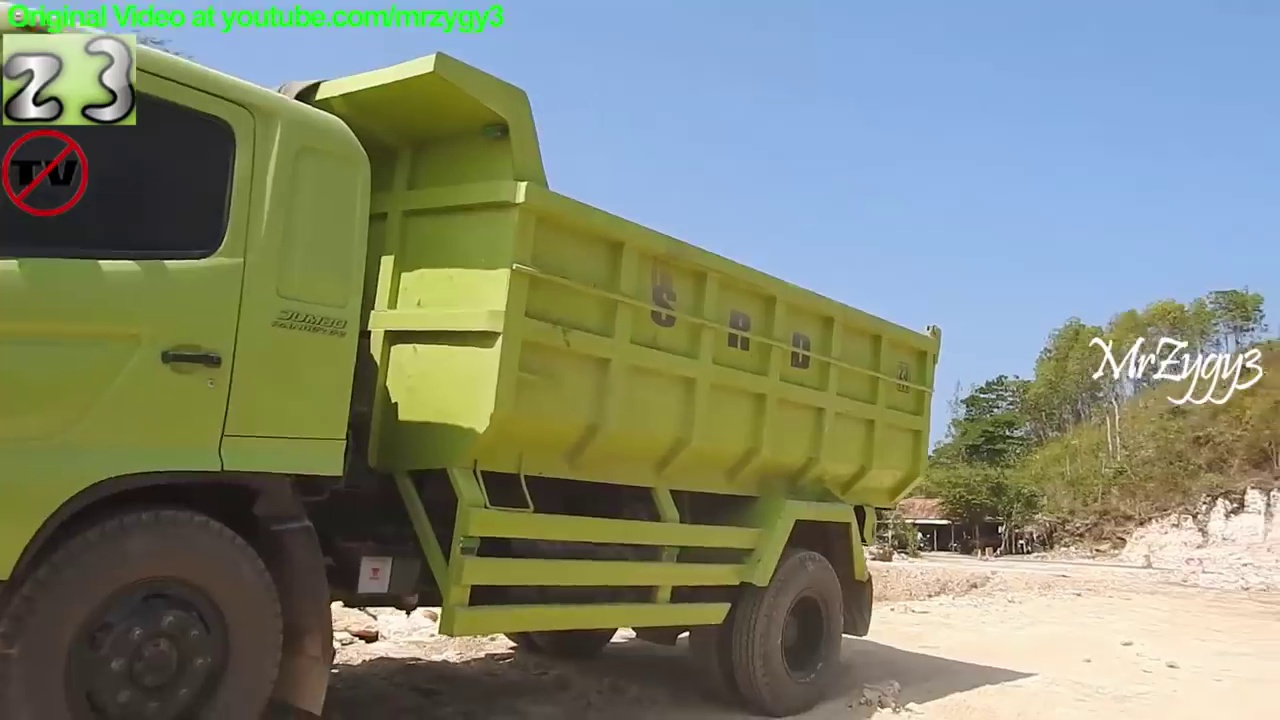truck: (1, 1, 948, 720)
